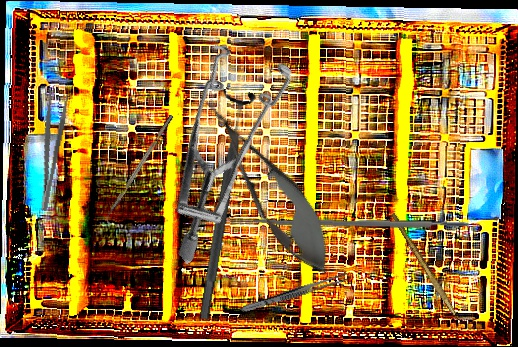Chopper: (101, 114, 179, 226)
Dressing Forceps: (28, 90, 71, 212), (239, 270, 349, 316)
Fixation Ring: (185, 88, 258, 322)
Micro Scissor: (186, 85, 350, 287)
Scalpel Handle: (388, 212, 460, 316), (252, 217, 471, 230)
Speculum: (91, 18, 346, 265)
